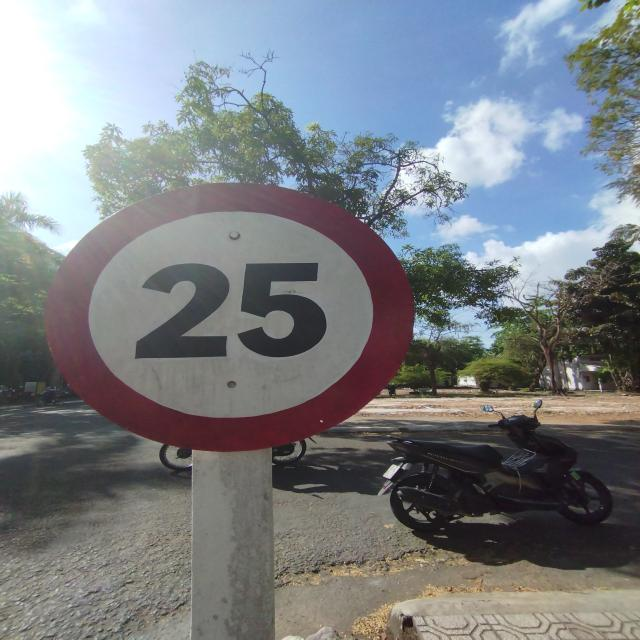Tre_Em: (36, 177, 418, 448)
